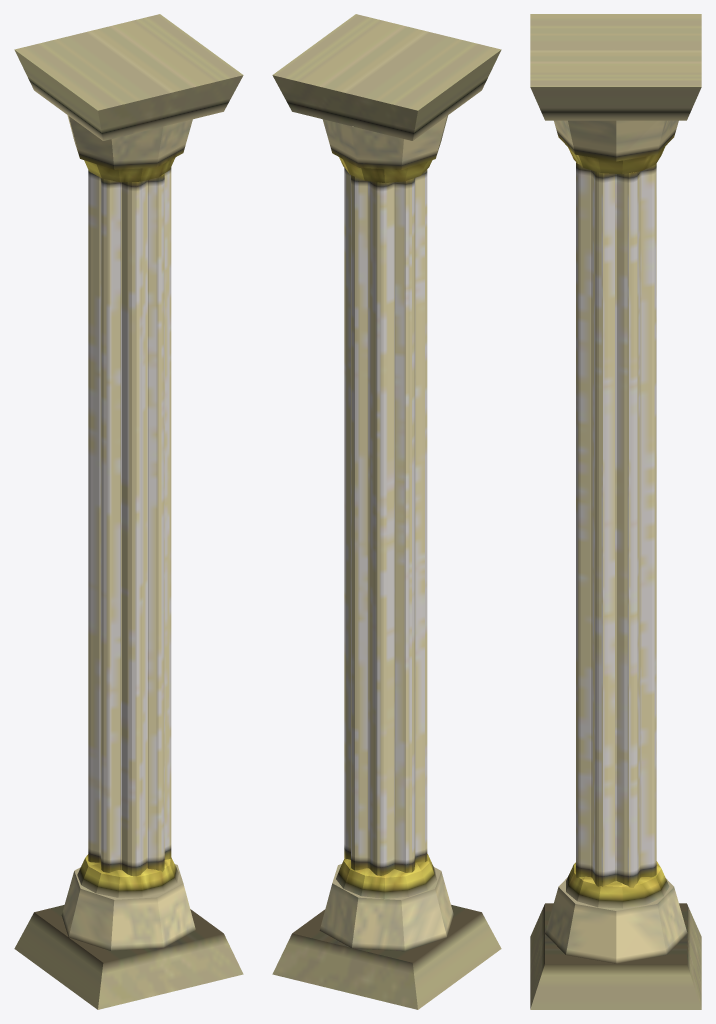
Rendered from Columb2.glb.
3 views of the same model, side by side, from view 1: azimuth 30°, elevation 25°; view 2: azimuth 150°, elevation 25°; view 3: azimuth 270°, elevation 25° (orthographic). The views are drawn at different scales.
Parts seen in each view (by area): view 1: Columb2; view 2: Columb2; view 3: Columb2.
Part boxes in pixels (box(x1,y1,x2,y2)): Columb2: box(14, 14, 243, 1009); Columb2: box(272, 14, 501, 1009); Columb2: box(530, 14, 701, 1009).
Bounding box in the file's own units: 153 × 903 × 152.
Materials: 1 (1 with a texture image).
